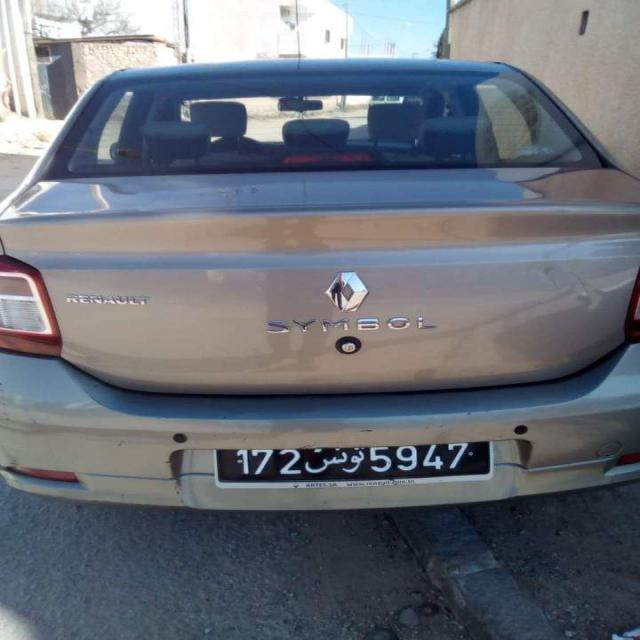LP: (218, 439, 498, 485)
